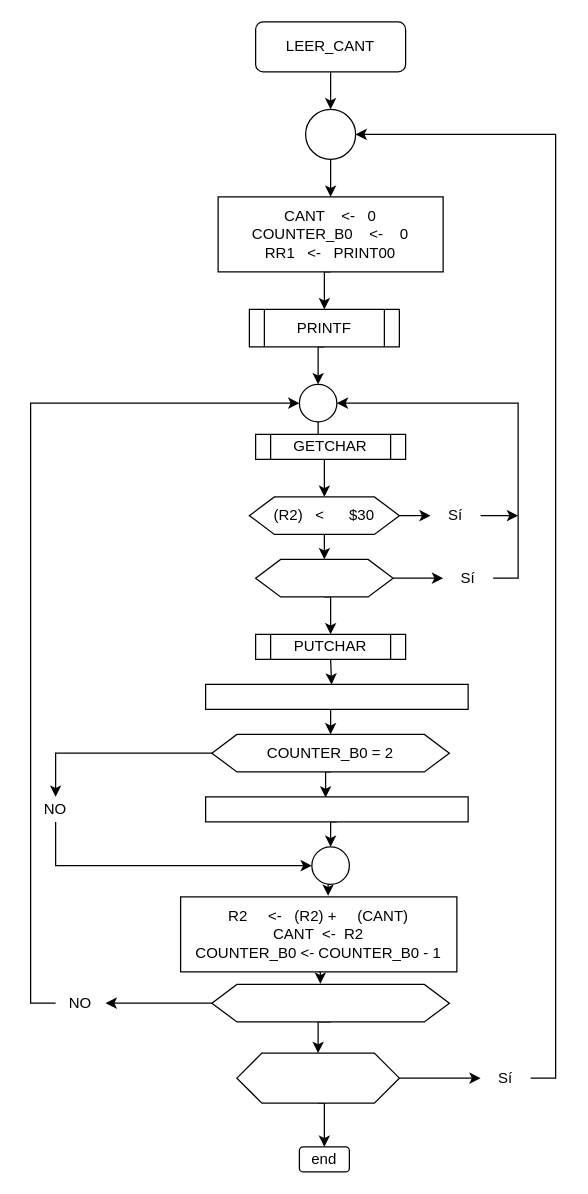
The diagram is 588 pixels wide and 1194 high, and some of its shapes have lost their labels. The centre of each missing label's shape, as x and y in pixels:
"(R2) > $39" belongs at [323,577].
"CANT = 0" belongs at [317,1077].
"COUNTER_B0 = 0" belongs at [330,1002].
"R2 <- (R2) - $30" belongs at [336,696].
"R2 <- R2 * 10" belongs at [336,809].
